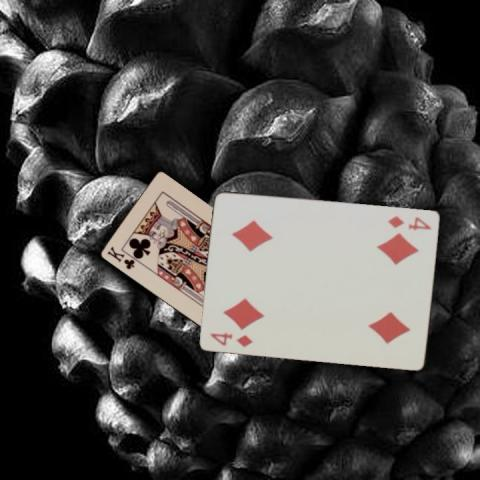4d: (207, 329, 255, 348), (384, 213, 433, 231)
Kc: (104, 244, 136, 271)
